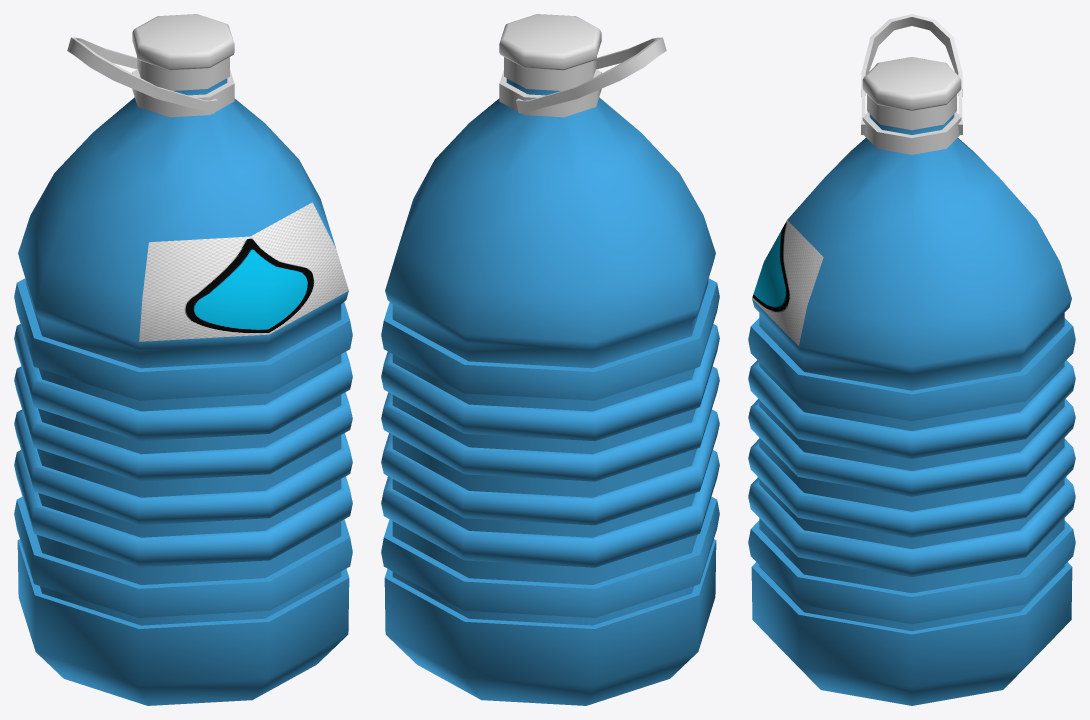
File: Garrafa de agua.fbx
3 renders of one model, left to right at view 1: azimuth 30°, elevation 25°; view 2: azimuth 150°, elevation 25°; view 3: azimuth 270°, elevation 25°, orthographic. The views are drawn at different scales.
Visible parts, largest first — view 1: garrafa de agua.001; view 2: garrafa de agua.001; view 3: garrafa de agua.001.
Part boxes in pixels (box(x1,y1,x2,y2)): garrafa de agua.001: box(14, 14, 352, 705); garrafa de agua.001: box(381, 14, 719, 705); garrafa de agua.001: box(748, 14, 1075, 705).
Bounding box in the file's own units: 17.23 × 35.27 × 17.23.
3 materials, 1 textured.
